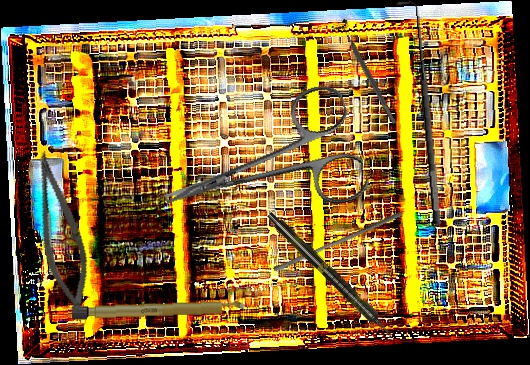Fixation Ring: (330, 17, 403, 129)
Handpiece: (264, 209, 397, 342)
Hook Surgical: (396, 0, 444, 226)
Iris Scissors: (146, 79, 373, 253)
Micro Scissor: (16, 147, 102, 316)
Pusher: (272, 205, 404, 278)
Scalpel Handle: (71, 299, 246, 321)
